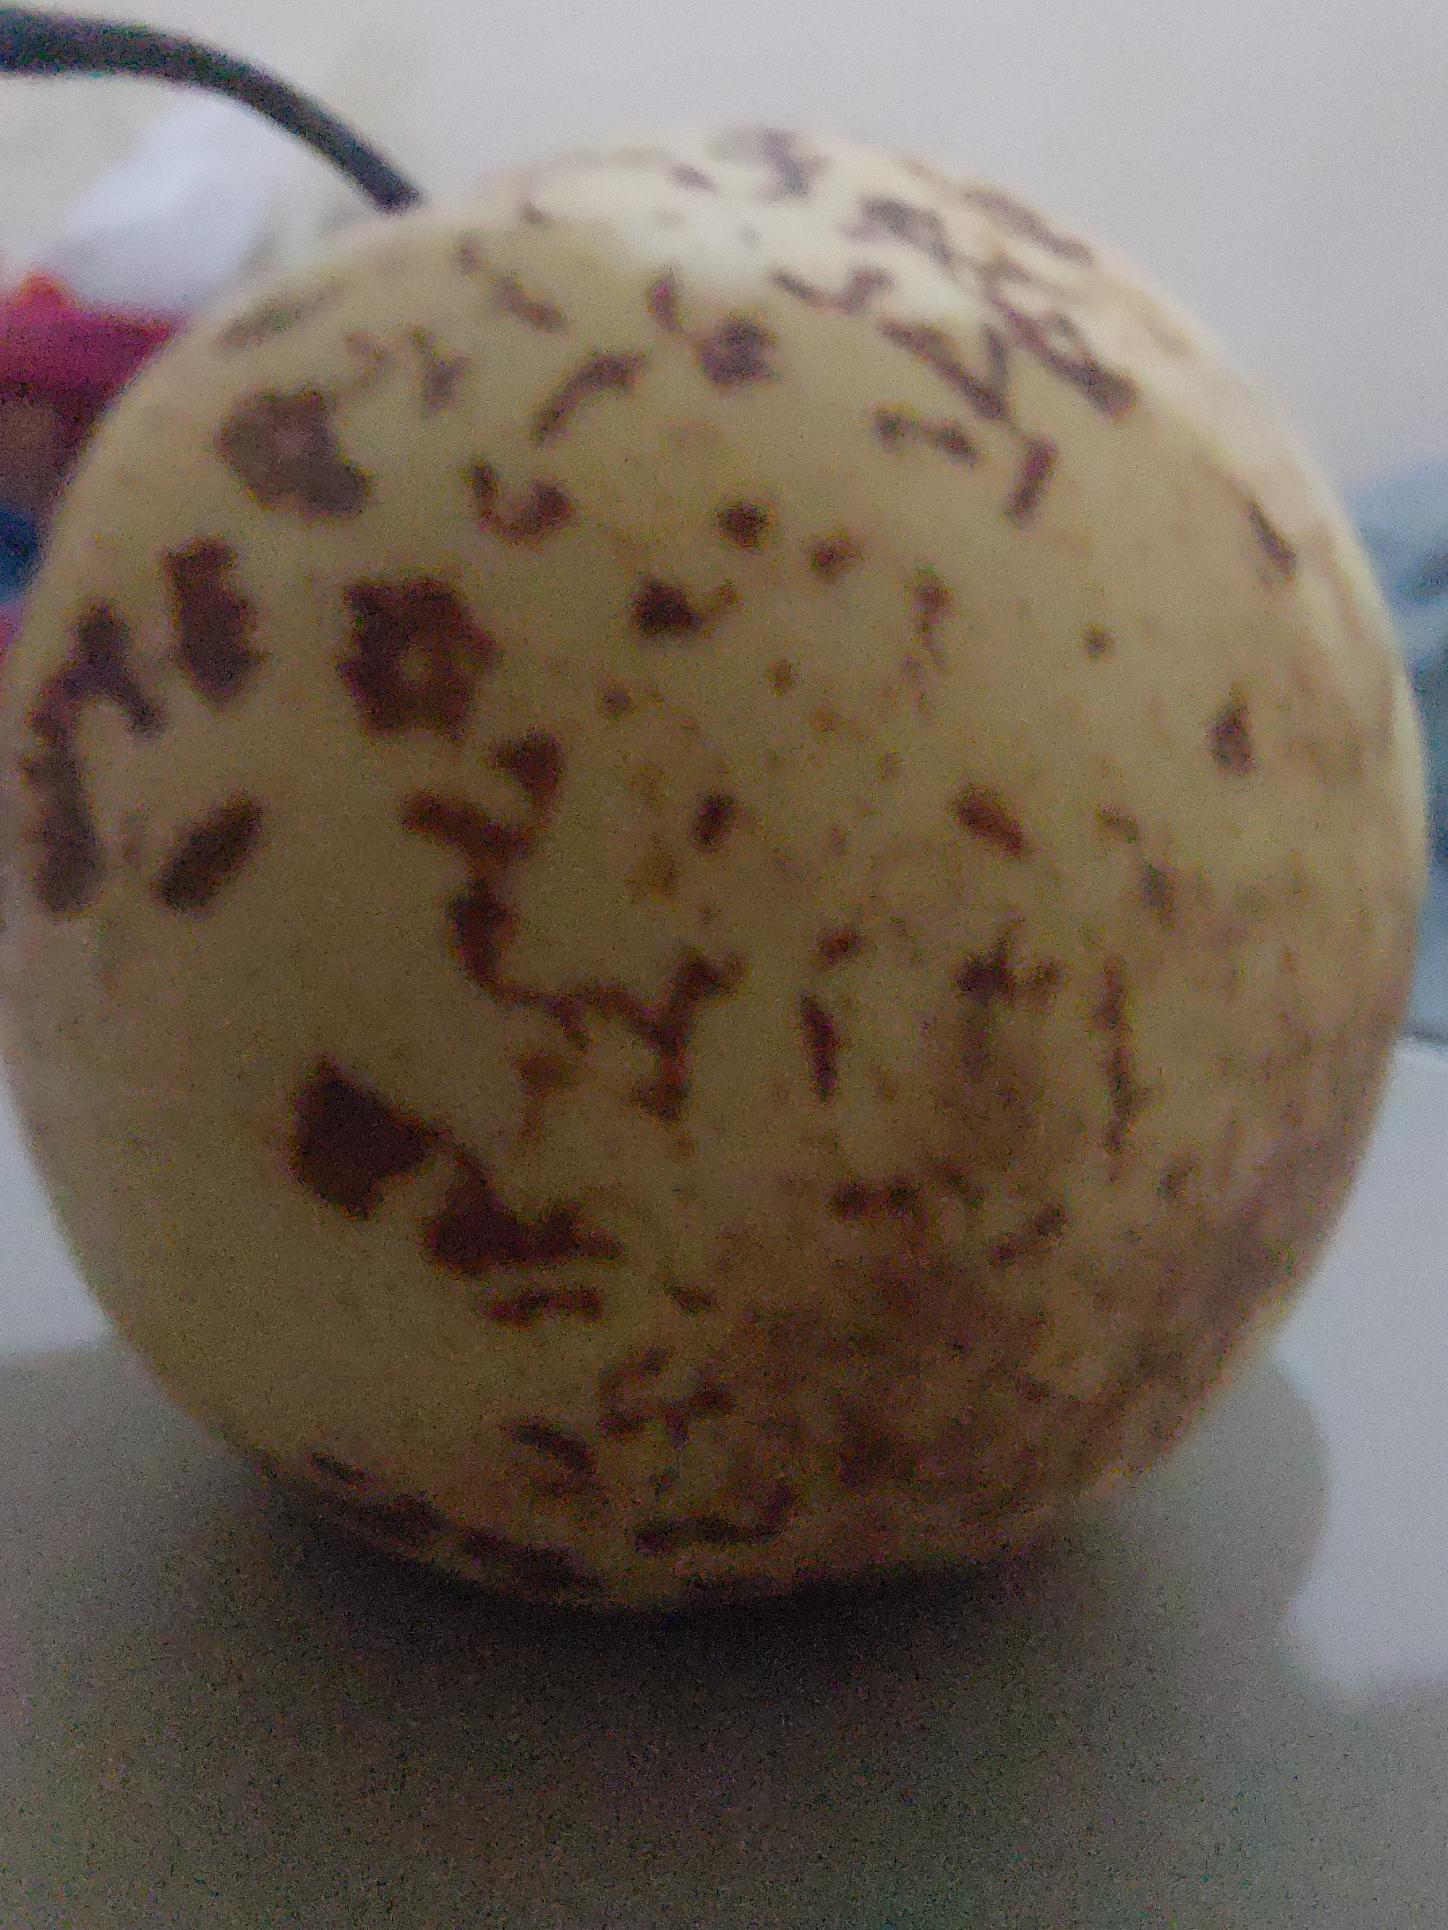Bad Pear: (0, 113, 1418, 1624)
